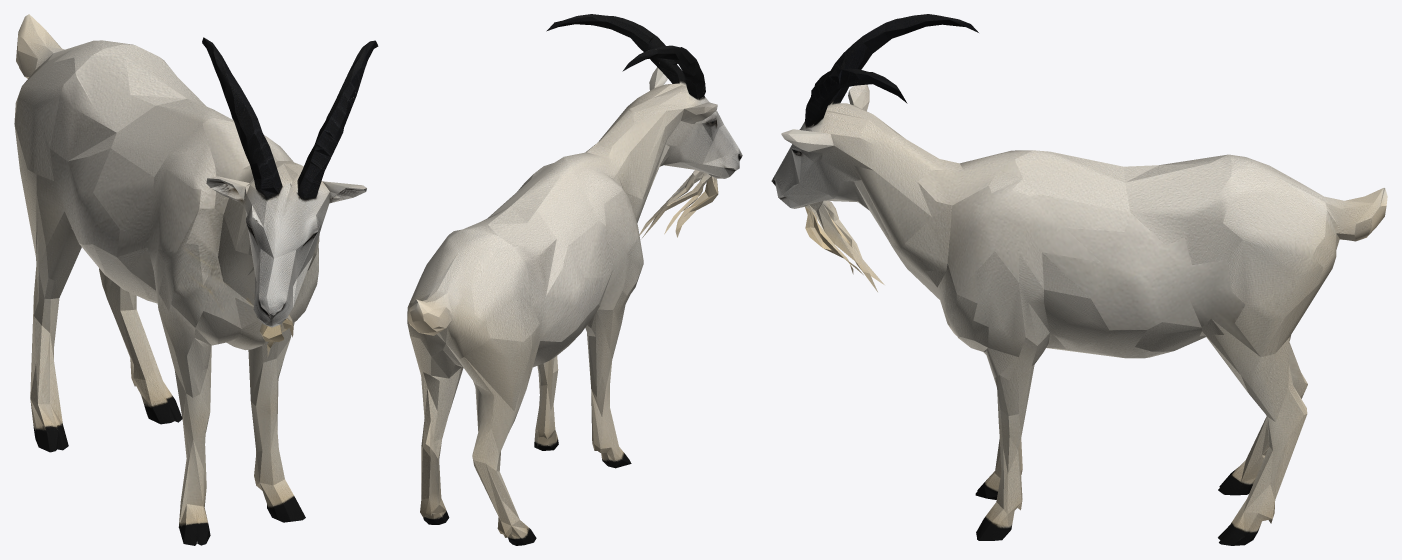
File: goat.glb
3 renders of one model, left to right at view 1: azimuth 30°, elevation 25°; view 2: azimuth 150°, elevation 25°; view 3: azimuth 270°, elevation 25°, orthographic. The views are drawn at different scales.
Size of the model in its own units: 0.645 by 1.62 by 1.9.
1 material, 1 textured.
